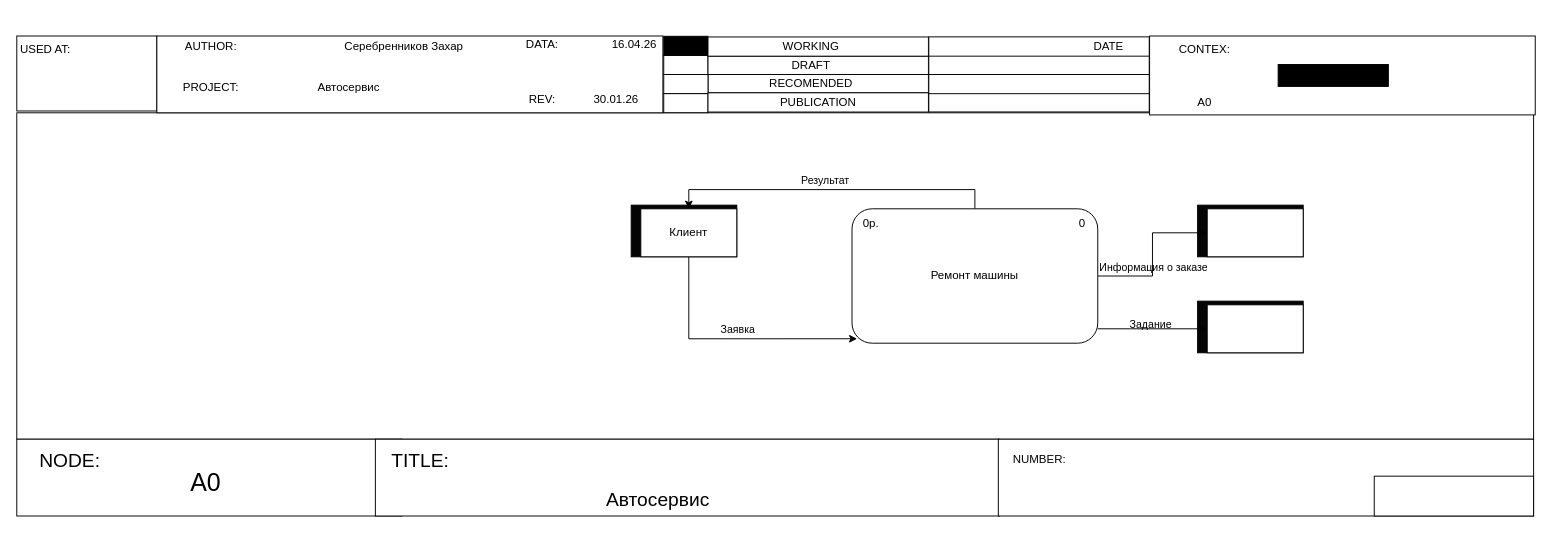
This 1552x535 diagram has some shape labels left out. The shapes that lost their labels are listed below. From the top down, each one's box as (x1, y1, x2, y2) in pixels, then its label:
(928, 36, 1149, 56): READER
(1206, 208, 1303, 257): Менеджер
(1206, 304, 1303, 353): Механик
